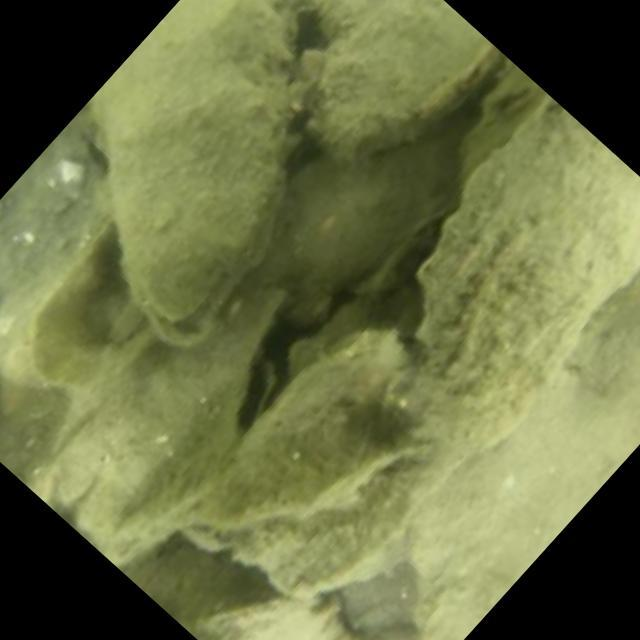Oyster- Indeterminate: (85, 0, 296, 344), (237, 461, 458, 608), (275, 129, 463, 295), (228, 319, 404, 468), (0, 135, 101, 356), (172, 599, 367, 640)
Oyster-Closed: (402, 65, 640, 456), (198, 399, 409, 541), (312, 0, 502, 156), (101, 443, 238, 554)
